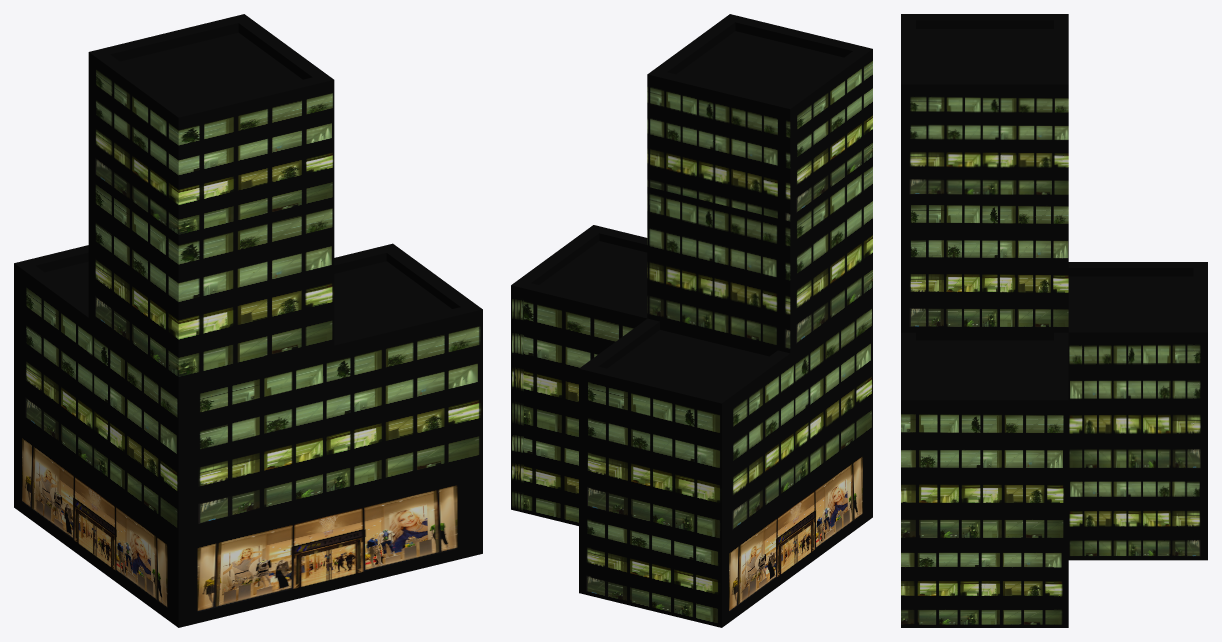
Rendered from building12.FBX.
3 renders of one model, left to right at view 1: azimuth 30°, elevation 25°; view 2: azimuth 150°, elevation 25°; view 3: azimuth 270°, elevation 25°, orthographic. The views are drawn at different scales.
Parts seen in each view (by area): view 1: Box001; view 2: Box001; view 3: Box001.
Part boxes in pixels (<box>): Box001: <box>14,14,482,627</box>; Box001: <box>511,14,872,627</box>; Box001: <box>901,14,1207,627</box>.
Bounding box in the file's own units: 78.18 × 125 × 73.21.
